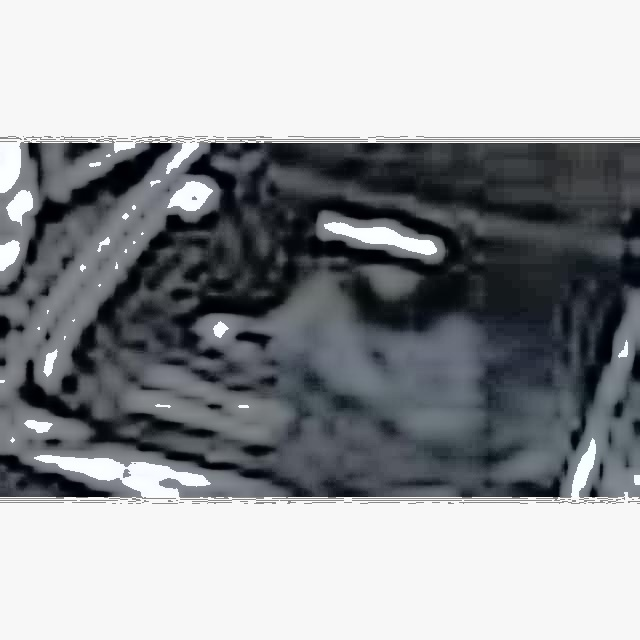pakai: (268, 238, 484, 420)
